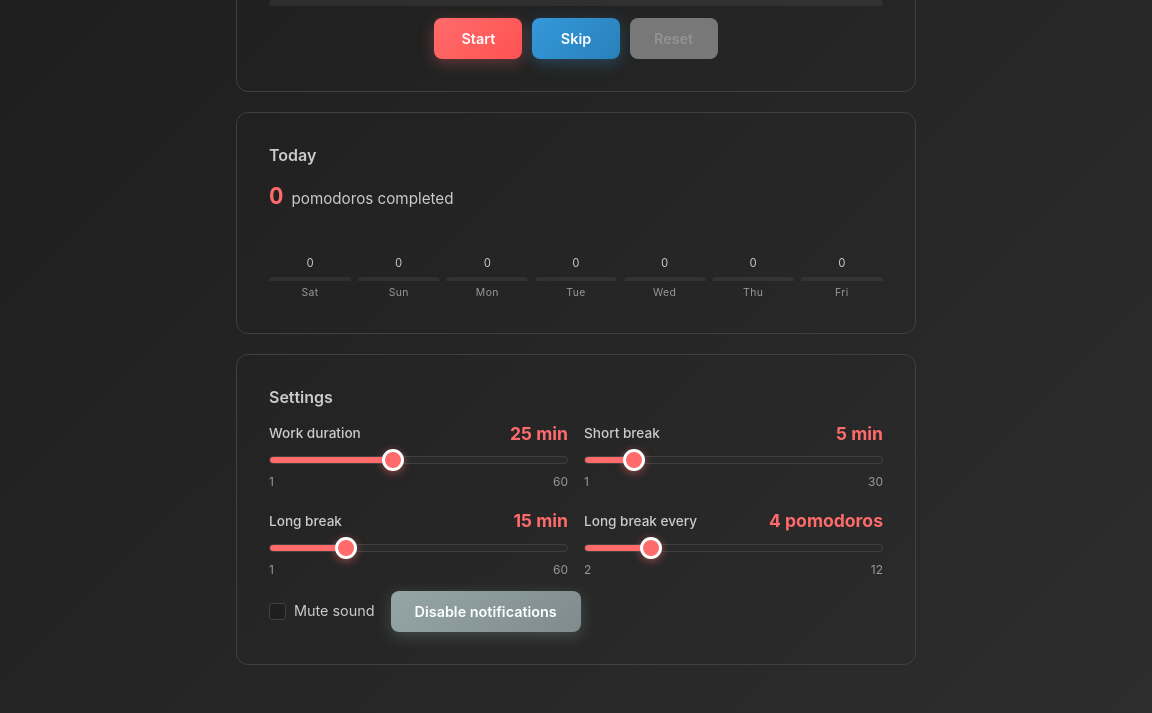
Test: <PomodoroTimer /> — notification toggle (4 states) › State B: shows Disable button when already granted+enabled; click disables without re-requesting
(page scrolled)
Click the button with aria-label "disable desktop notifications" at (486, 611), box 391,591 -> 581,632
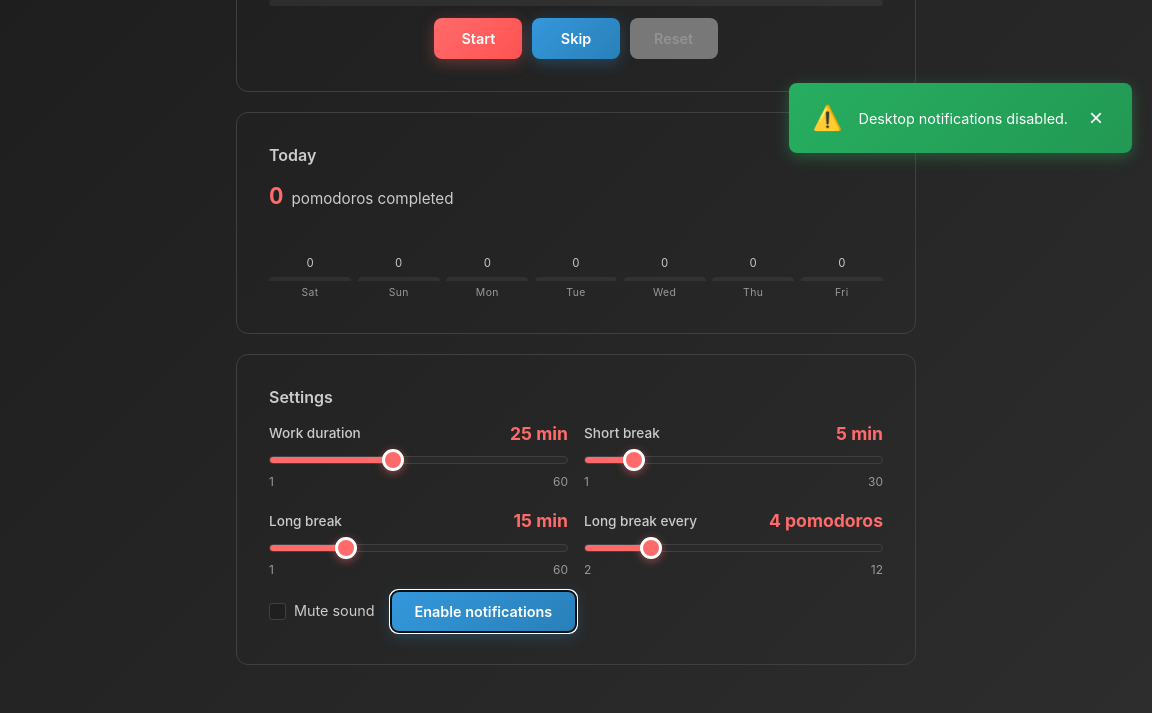
Expected: the button with aria-label "enable desktop notifications" is shown, 391,591 -> 576,632
Expected: the text "Desktop notifications disabled." is shown, 858,107 -> 1068,130
